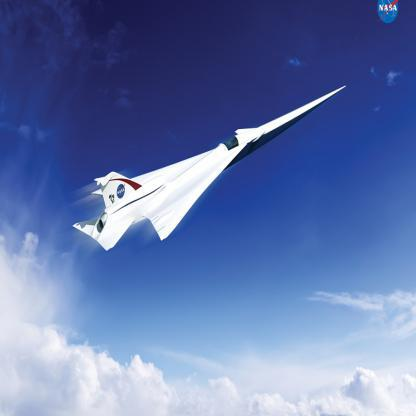CIV_Plane: (67, 80, 347, 260)
